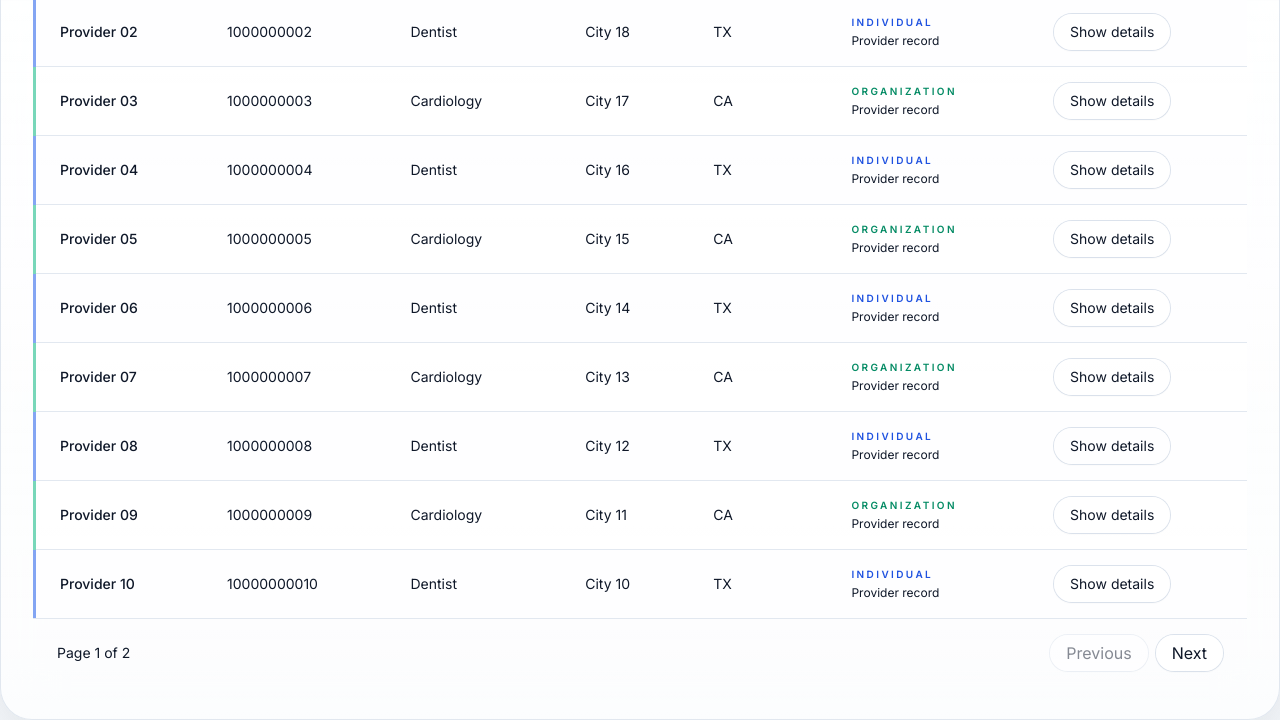
Test: ResultsTable › paginates through long result sets
(page scrolled)
Expected: the text "Page 1 of 2" is shown, [57,643,130,663]
Expected: the button "Previous" is disabled, [1050,635,1148,671]
Click the button "Next": {"x": 1189, "y": 653} [1156,635,1223,671]
(page scrolled)
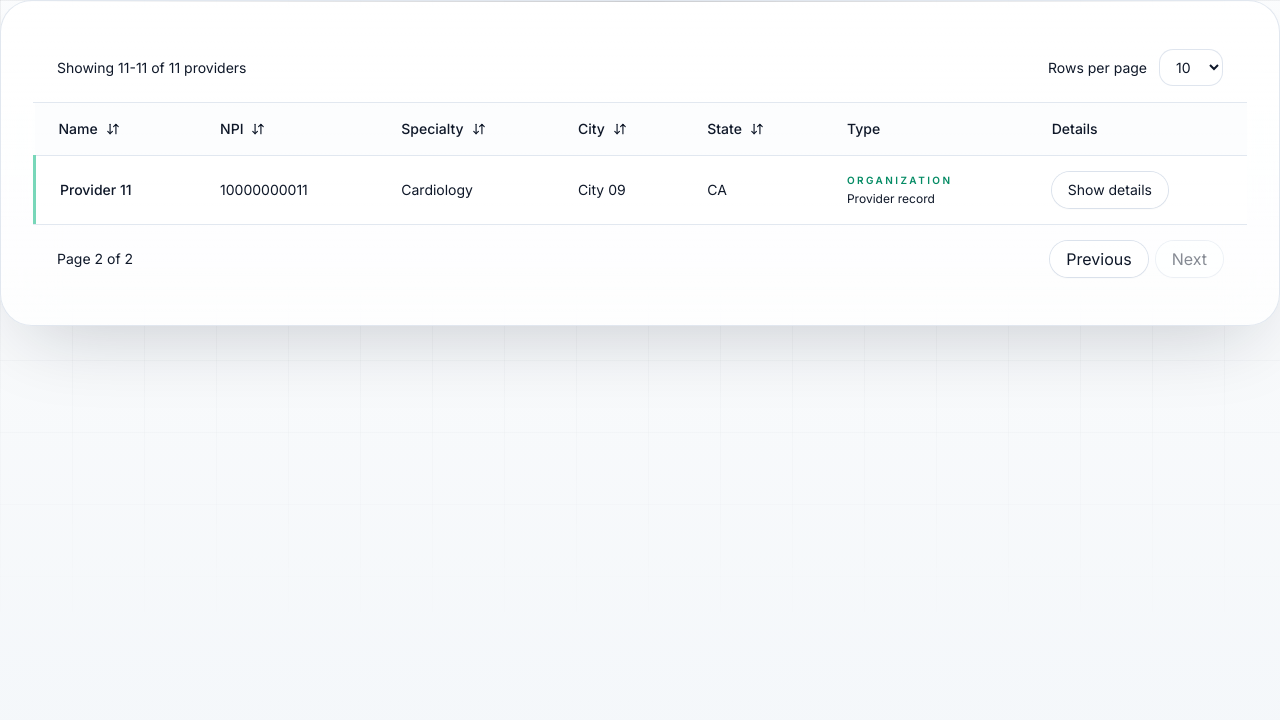
Now the text "Page 2 of 2" is shown, box [57,249,133,269]
Now the text "Provider 11" is shown, box [34,156,196,224]
Now the button "Next" is disabled, box [1156,241,1223,277]
